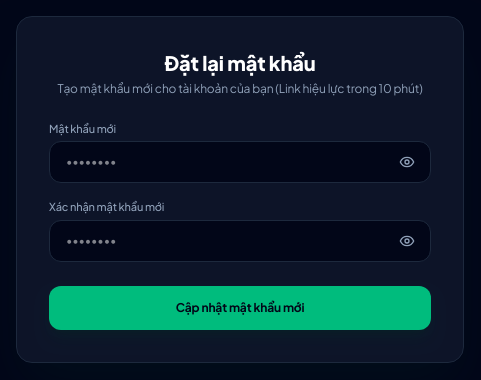
Scenario: ResetPasswordPage › submits reset password request successfully
The image size is (481, 380).
Type "newPassword123" into the 1st password field with placeholder "••••••••" at (240, 162), box [49,141,431,183]
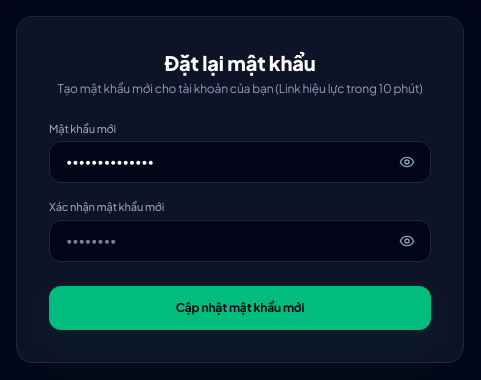
Type "newPassword123" into the password field with placeholder "••••••••" at (240, 240), box [49,220,431,262]
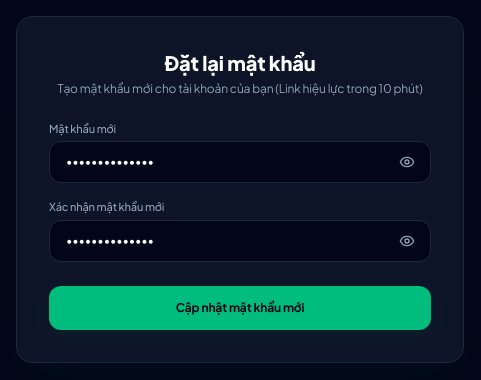
Click the button "Cập nhật mật khẩu mới" at (240, 308), box [49,286,431,330]
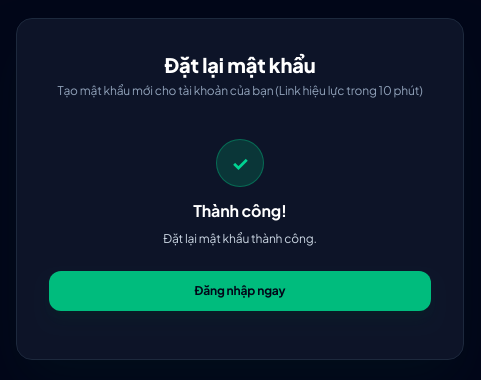
Check: the heading "Thành công!" is shown, box [193,200,287,221]
